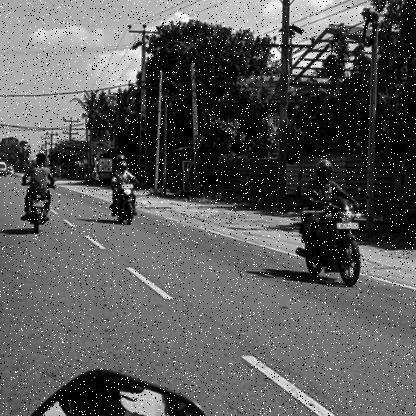motorcycle: (292, 198, 367, 290), (19, 188, 54, 236), (108, 180, 140, 228)
